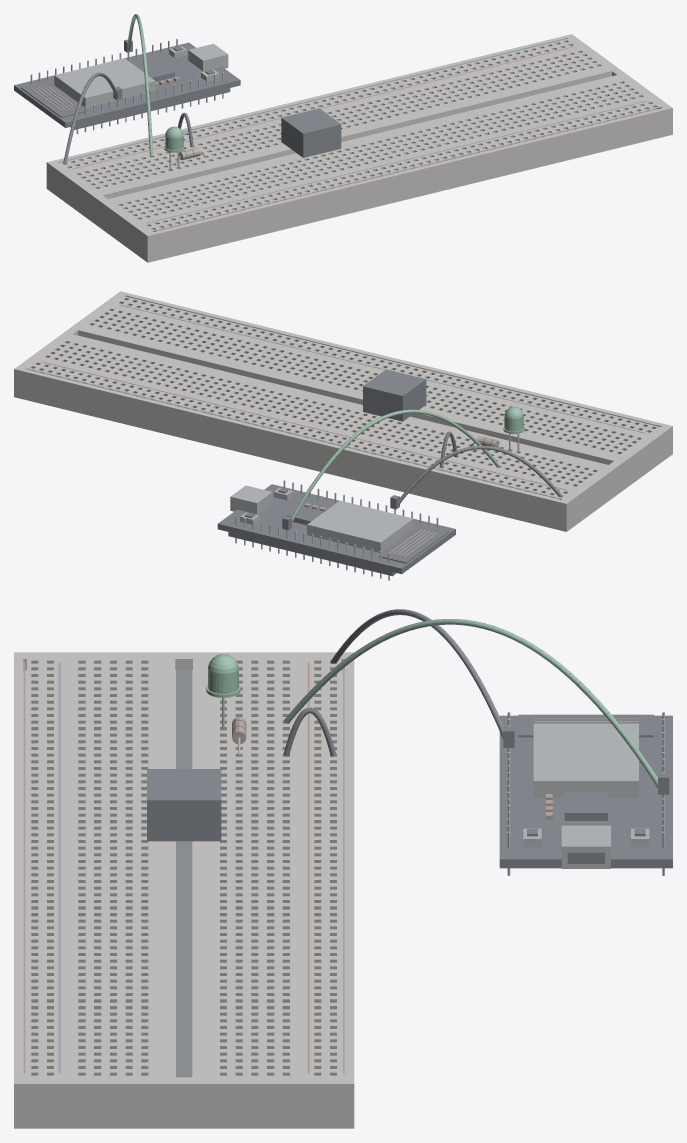
Rendered from step-7.glb.
The picture shows the model from 3 angles, top to bottom: view 1: azimuth 30°, elevation 25°; view 2: azimuth 150°, elevation 25°; view 3: azimuth 270°, elevation 25°; orthographic projection. The views are drawn at different scales.
Parts seen in each view (by area): view 1: breadboard__mesh, uno__mesh, button__mesh, led_signal__mesh, ground_feed__mesh, green_led__mesh; view 2: breadboard__mesh, uno__mesh, button__mesh, led_signal__mesh, ground_feed__mesh, green_led__mesh; view 3: breadboard__mesh, uno__mesh, button__mesh, led_signal__mesh, ground_feed__mesh, green_led__mesh.
Part boxes in pixels (x1,y1,x2,y2): breadboard__mesh: (46, 34, 672, 262); uno__mesh: (14, 39, 240, 134); button__mesh: (281, 108, 341, 157); led_signal__mesh: (124, 14, 153, 156); ground_feed__mesh: (63, 72, 122, 164); green_led__mesh: (164, 126, 184, 170); breadboard__mesh: (14, 291, 672, 531); uno__mesh: (217, 480, 455, 580); button__mesh: (363, 369, 426, 421); led_signal__mesh: (282, 409, 500, 530); ground_feed__mesh: (390, 445, 561, 509); green_led__mesh: (503, 406, 524, 452); breadboard__mesh: (14, 652, 354, 1128); uno__mesh: (499, 712, 672, 875); button__mesh: (147, 769, 221, 841); led_signal__mesh: (284, 619, 669, 794); ground_feed__mesh: (331, 609, 514, 747); green_led__mesh: (206, 654, 240, 729).
Bounding box in the file's own units: 0.165 × 0.0325 × 0.1065.
